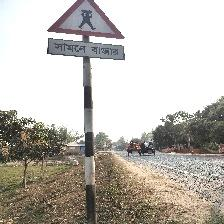Market-in-front: (46, 0, 127, 61)
